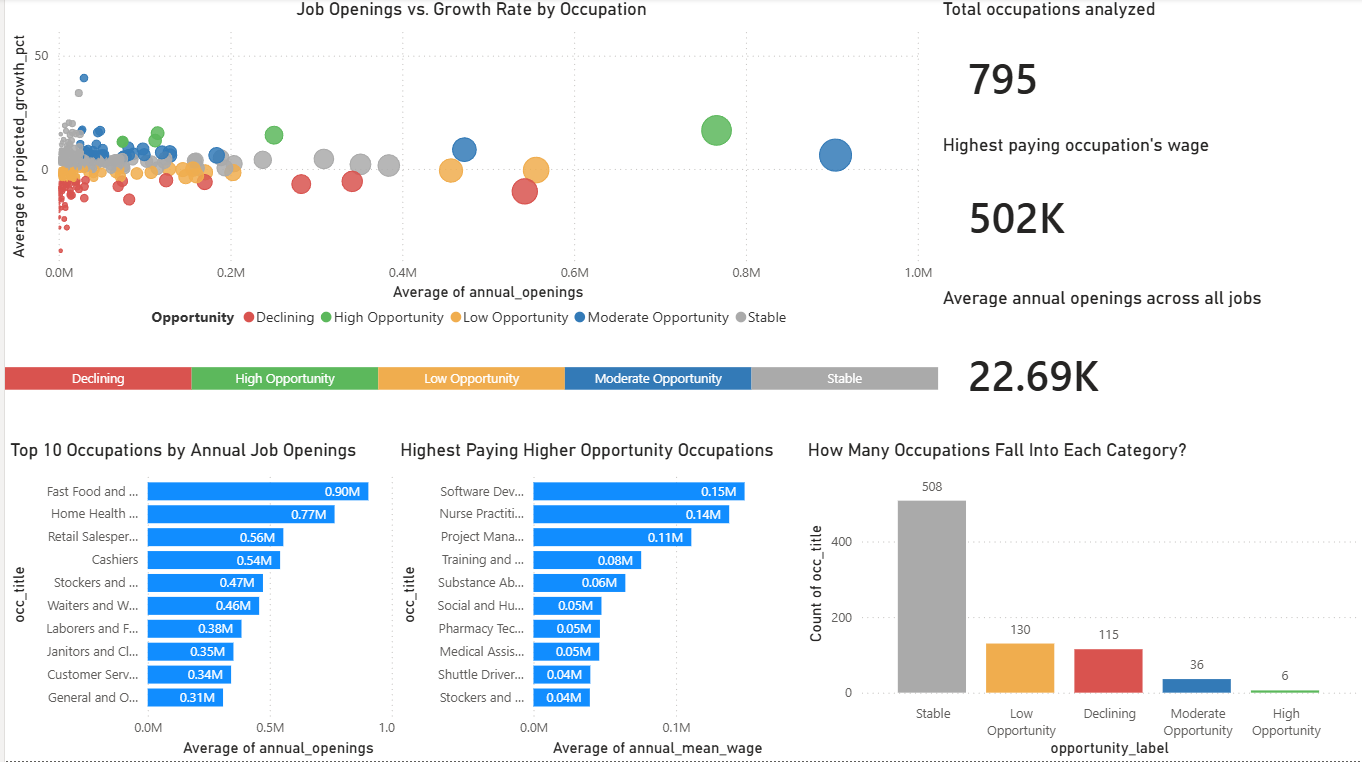

What the dashboard file says about the page in this screenshot:
{"tool":"powerbi","page":{"name":"Overall Job Market","canvas":[1280,720],"ordinal":0},"visuals":[{"type":"clusteredBarChart","title":"Top 10 Occupations by Annual Job Openings","fields":{"Category":["job_opportunity_final.occ_title"],"Y":["Avg(job_opportunity_final.annual_openings)"]},"box":[0,416,400,304],"z":1000},{"type":"clusteredColumnChart","title":"How Many Occupations Fall Into Each Category?","fields":{"Category":["job_opportunity_final.opportunity_label"],"Y":["CountNonNull(job_opportunity_final.occ_title)"]},"box":[752,416,528,304],"z":2000},{"type":"clusteredBarChart","title":"Highest Paying Higher Opportunity Occupations","fields":{"Category":["job_opportunity_final.occ_title"],"Y":["Avg(job_opportunity_final.annual_mean_wage)"]},"box":[368,416,384,304],"z":3000},{"type":"cardVisual","title":"Total occupations analyzed","fields":{"Data":["Count(job_opportunity_final.occ_title)"]},"box":[880,0,400,128],"z":4000},{"type":"cardVisual","title":"Average annual openings across all jobs","fields":{"Data":["Avg(job_opportunity_final.annual_openings)"]},"box":[880,272,400,144],"z":5000},{"type":"cardVisual","title":"Highest paying occupation''s wage","fields":{"Data":["Max(job_opportunity_final.annual_mean_wage)"]},"box":[880,128,400,144],"z":6000},{"type":"barChart","title":"Opportunity Labels","fields":{"Y":["job_opportunity_final.Dummy"],"Series":["job_opportunity_final.opportunity_label"]},"box":[0,288,880,112],"z":7002},{"type":"scatterChart","title":"Job Openings vs. Growth Rate by Occupation","fields":{"X":["Avg(job_opportunity_final.annual_openings)"],"Y":["Avg(job_opportunity_final.projected_growth_pct)"],"Series":["job_opportunity_final.opportunity_label"],"Category":["job_opportunity_final.annual_openings"],"Size":["Avg(job_opportunity_final.annual_openings)"]},"box":[0,0,880,320],"z":8002}]}

Visuals, with their boxes in screenshot pixels (x1, y1, x2, y2), scaled from the page's 1280x720 canvas onto the 1362x762 screenshot:
"Top 10 Occupations by Annual Job Openings" clusteredBarChart: l=0, t=440, r=426, b=761
"How Many Occupations Fall Into Each Category?" clusteredColumnChart: l=800, t=440, r=1361, b=761
"Highest Paying Higher Opportunity Occupations" clusteredBarChart: l=392, t=440, r=800, b=761
"Total occupations analyzed" cardVisual: l=936, t=0, r=1361, b=135
"Average annual openings across all jobs" cardVisual: l=936, t=288, r=1361, b=440
"Highest paying occupation''s wage" cardVisual: l=936, t=135, r=1361, b=288
"Opportunity Labels" barChart: l=0, t=305, r=936, b=423
"Job Openings vs. Growth Rate by Occupation" scatterChart: l=0, t=0, r=936, b=339
